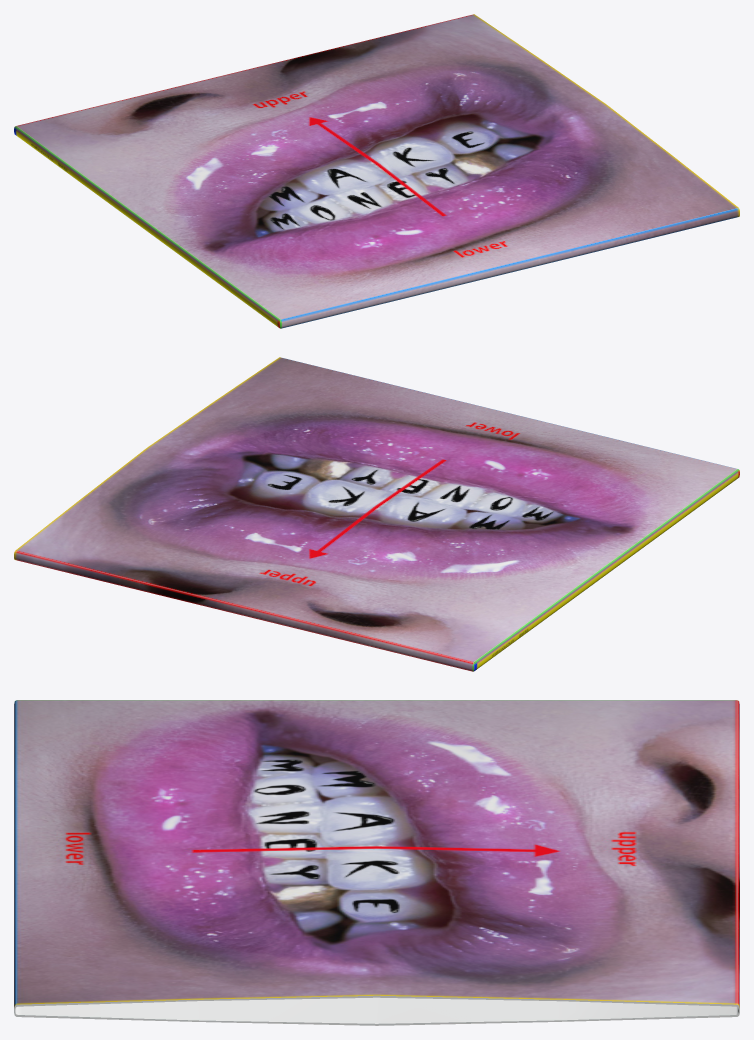
The model's file is sleeve_7_single.dae.
3 renders of one model, top to bottom at view 1: azimuth 30°, elevation 25°; view 2: azimuth 150°, elevation 25°; view 3: azimuth 270°, elevation 25°, orthographic. The views are drawn at different scales.
Parts seen in each view (by area): view 1: sleeve; view 2: sleeve; view 3: sleeve.
Part boxes in pixels (x1=…): sleeve: x1=14, y1=14, x2=739, y2=328; sleeve: x1=14, y1=357, x2=739, y2=671; sleeve: x1=14, y1=700, x2=739, y2=1025.
Bounding box in the file's own units: 17.92 × 0.8236 × 17.99.
Materials: 1 (1 with a texture image).
